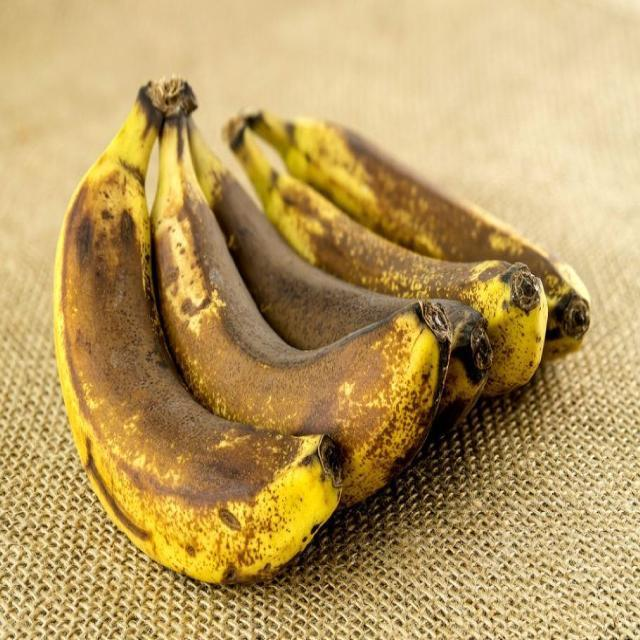Execivamente Madura: (57, 124, 336, 582), (157, 128, 451, 501), (194, 130, 489, 413), (236, 153, 546, 389), (295, 120, 581, 344)
